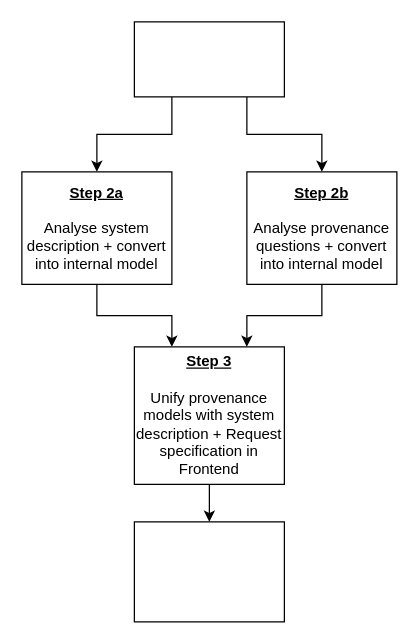
The diagram is 419 pixels wide and 644 high, and some of its shapes have lost their labels. The shapes that lost their labels are listed below. From the top down, each one's centre as x and y in pixels, then its label:
At point (208, 59): "Step 1 Frontend Input".
At point (208, 571): "Step 4 Generate Trace Template + SPARQL queries".
